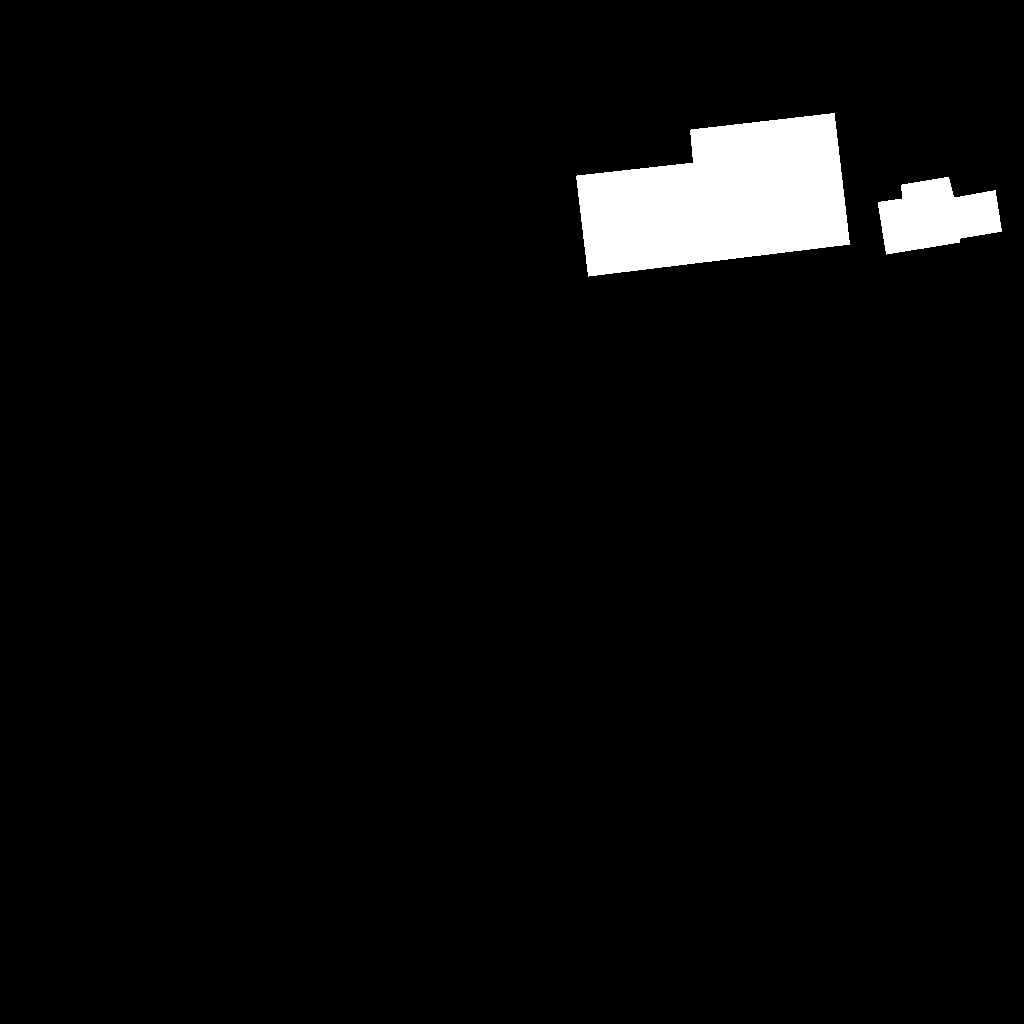building: (576, 113, 851, 277), (878, 177, 1003, 255)
